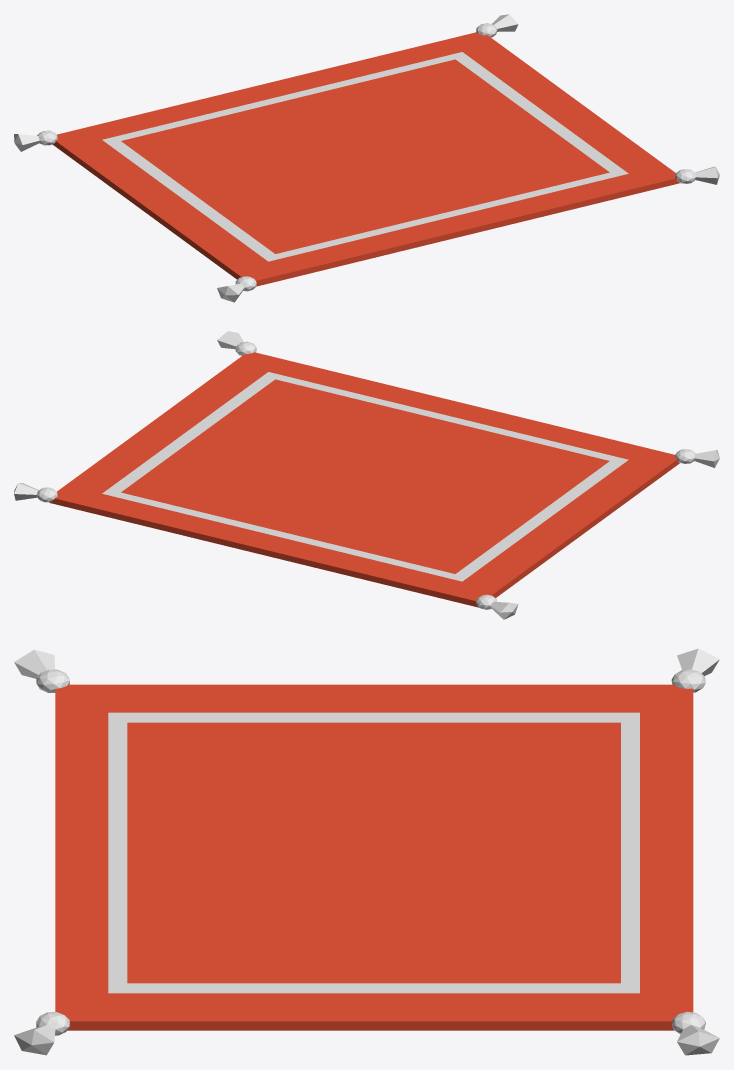
File: squareRug.fbx
3 renders of one model, top to bottom at view 1: azimuth 30°, elevation 25°; view 2: azimuth 150°, elevation 25°; view 3: azimuth 270°, elevation 25°, orthographic. The views are drawn at different scales.
Parts seen in each view (by area): view 1: Square Rug; view 2: Square Rug; view 3: Square Rug.
Part boxes in pixels (x1=…): Square Rug: x1=14, y1=14, x2=719, y2=302; Square Rug: x1=14, y1=331, x2=719, y2=619; Square Rug: x1=14, y1=648, x2=719, y2=1055.
Size of the model in its own units: 461 by 354 by 12.83.
